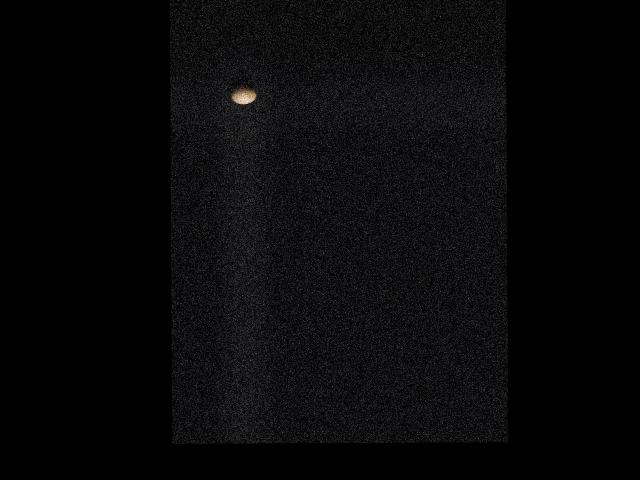egg: (230, 85, 257, 104)
